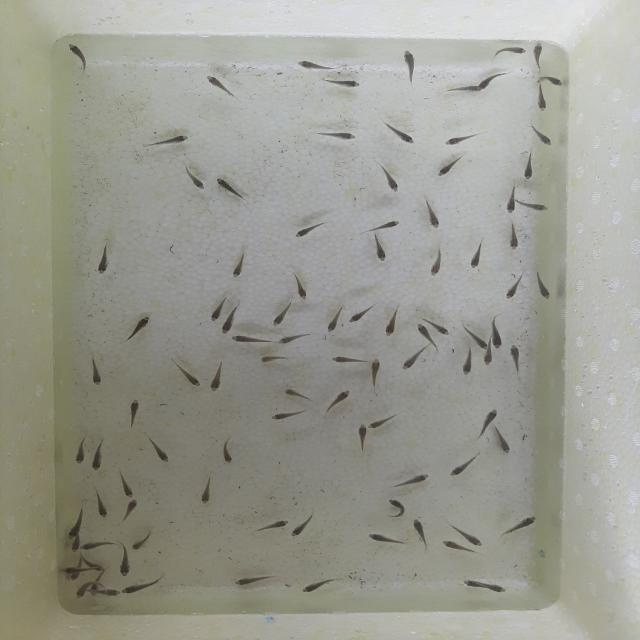fingerling: (138, 130, 192, 155), (373, 118, 419, 146), (200, 70, 238, 103), (118, 313, 154, 347), (498, 512, 538, 542), (372, 160, 406, 193), (320, 387, 353, 421), (292, 56, 347, 76), (445, 451, 484, 479), (210, 176, 250, 203), (397, 45, 421, 89), (170, 356, 202, 389), (120, 576, 166, 598), (444, 125, 486, 149), (205, 356, 231, 393), (142, 434, 174, 464), (65, 40, 91, 75), (310, 127, 360, 145), (418, 200, 446, 232), (290, 219, 332, 240), (485, 43, 529, 63), (179, 160, 208, 190), (93, 240, 117, 276), (248, 516, 291, 536), (437, 152, 470, 178), (464, 237, 489, 271), (301, 575, 344, 594), (317, 75, 365, 92), (89, 486, 113, 520), (408, 516, 432, 550), (228, 250, 254, 280), (393, 470, 432, 490), (367, 410, 406, 430), (362, 530, 405, 548), (230, 572, 278, 588), (502, 269, 526, 301), (506, 342, 529, 375), (382, 302, 403, 338), (398, 346, 428, 371), (216, 433, 238, 467), (502, 218, 524, 252), (124, 397, 144, 434), (291, 271, 314, 303), (116, 498, 141, 527), (477, 72, 513, 92), (322, 302, 344, 334), (66, 501, 84, 540), (85, 354, 106, 387), (532, 268, 553, 301), (114, 468, 137, 498), (520, 151, 542, 182), (196, 472, 216, 506), (368, 234, 392, 262), (280, 384, 315, 403), (492, 424, 513, 455), (269, 406, 305, 424), (89, 438, 108, 472), (72, 434, 91, 468), (428, 246, 448, 278), (347, 303, 375, 325), (515, 197, 551, 214), (528, 123, 553, 147), (368, 354, 383, 394), (361, 219, 403, 233), (228, 333, 276, 345), (381, 497, 406, 519), (130, 530, 156, 551), (116, 544, 132, 578), (458, 343, 474, 377), (271, 302, 292, 327), (276, 332, 313, 346), (531, 38, 545, 73), (254, 353, 293, 365), (79, 540, 118, 552), (329, 354, 368, 366), (534, 86, 548, 114), (481, 406, 501, 425), (462, 532, 486, 547), (356, 422, 368, 452), (412, 322, 430, 342), (438, 536, 460, 552), (219, 316, 236, 335), (541, 74, 565, 87), (290, 522, 308, 539), (479, 350, 495, 366), (472, 334, 488, 350), (99, 587, 122, 598), (433, 324, 452, 337), (59, 566, 94, 573), (503, 198, 517, 215), (208, 308, 224, 322), (488, 583, 507, 594), (73, 586, 86, 602), (492, 334, 504, 350), (66, 540, 80, 552), (460, 579, 478, 588), (69, 572, 84, 581), (92, 563, 105, 572)
